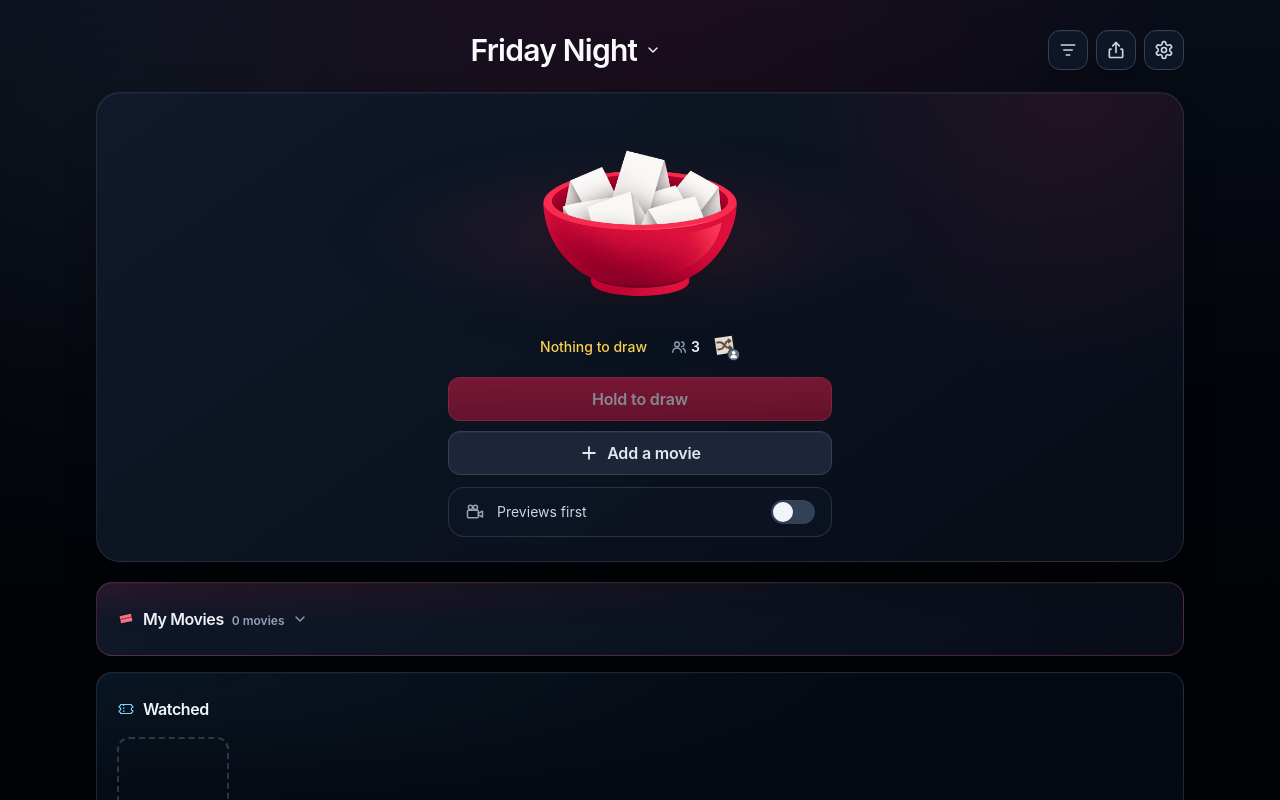
BowlDashboard bowl picker › keeps the previous home bowl when the save fails
Click the button with aria-label "switch bowl". click: [566, 50]
box: [462,28,669,72]
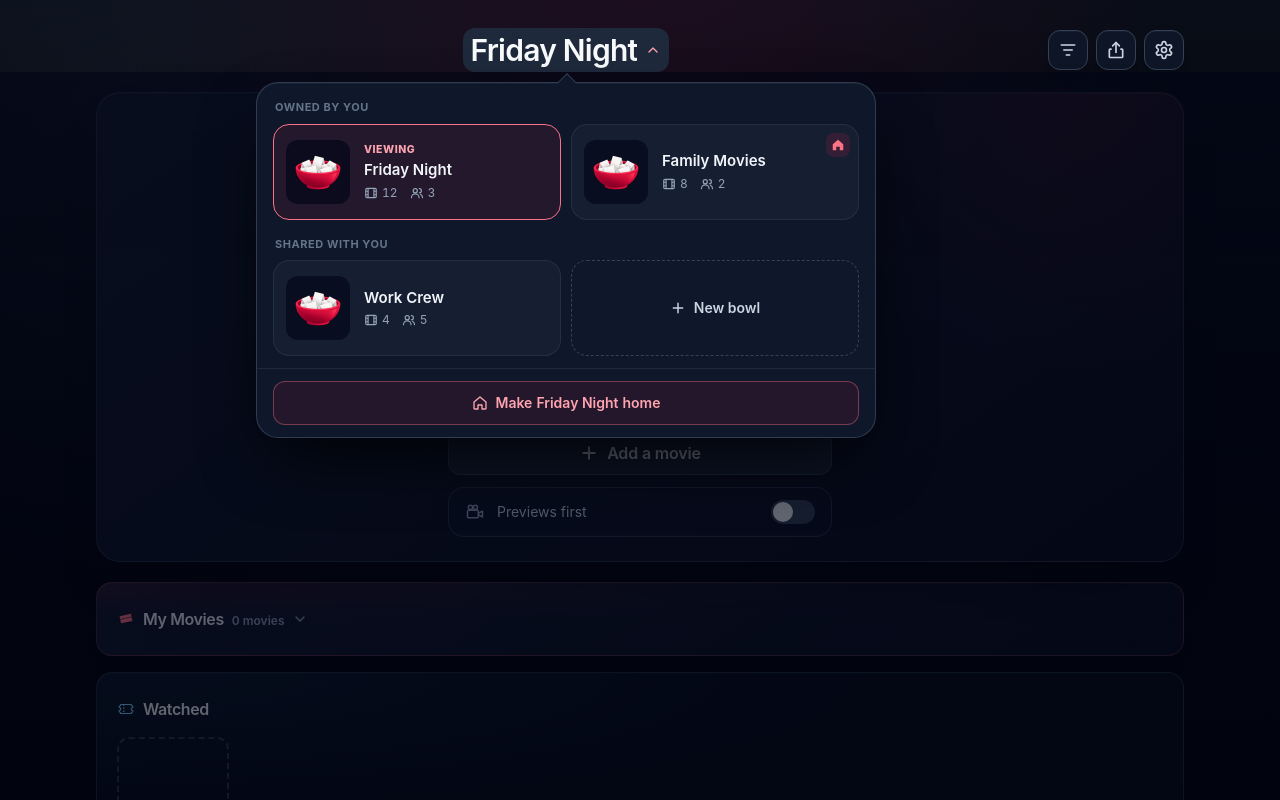
Click the button with aria-label "Make Friday Night my home bowl". click: [566, 403]
box: [273,381,859,425]
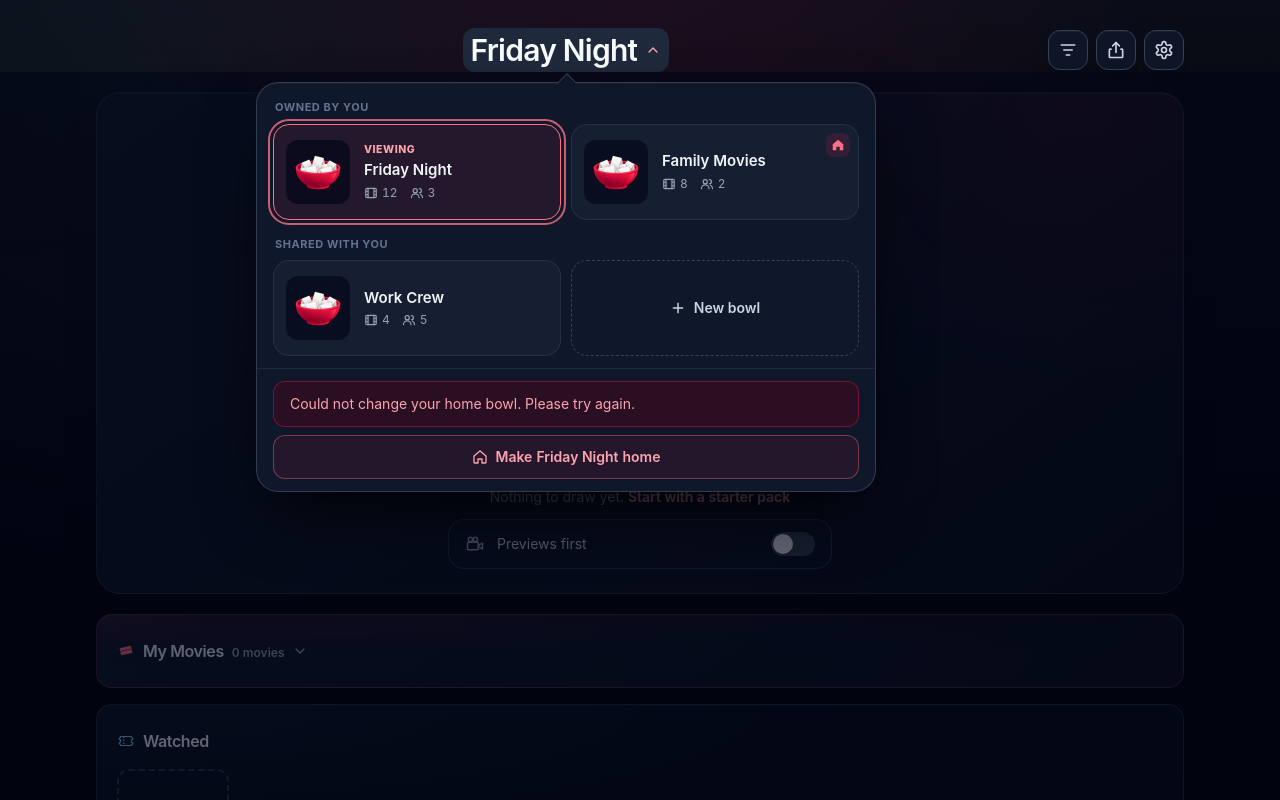
Check: the dialog named "choose a bowl" is shown, box [256,82,876,492]
Check: the button with aria-label "Family Movies, home bowl" is shown, box [571,124,859,220]
Check: the text "Could not change your home bowl. Please try again." is shown, box [273,381,859,427]
